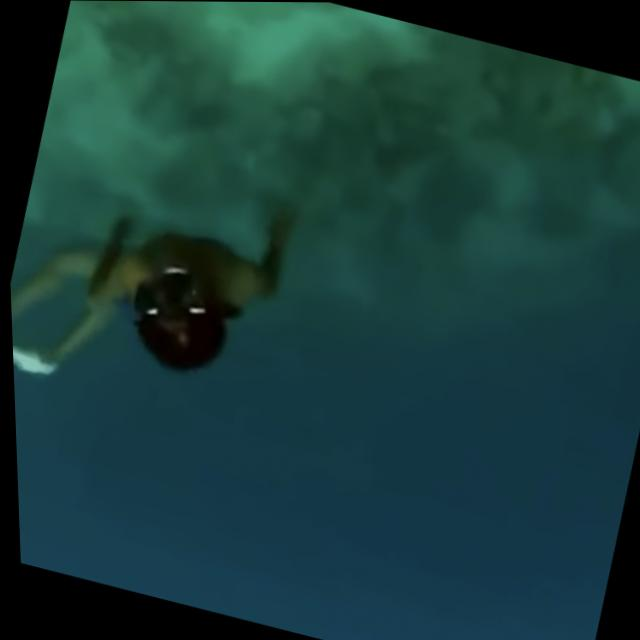human: (4, 138, 328, 452)
